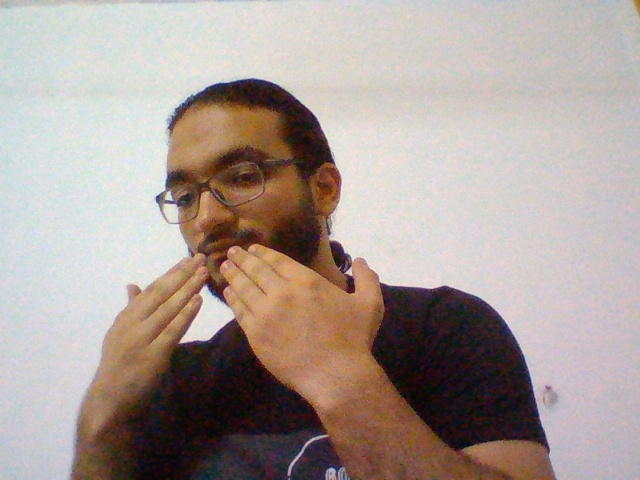Thanks: (80, 241, 411, 418)
